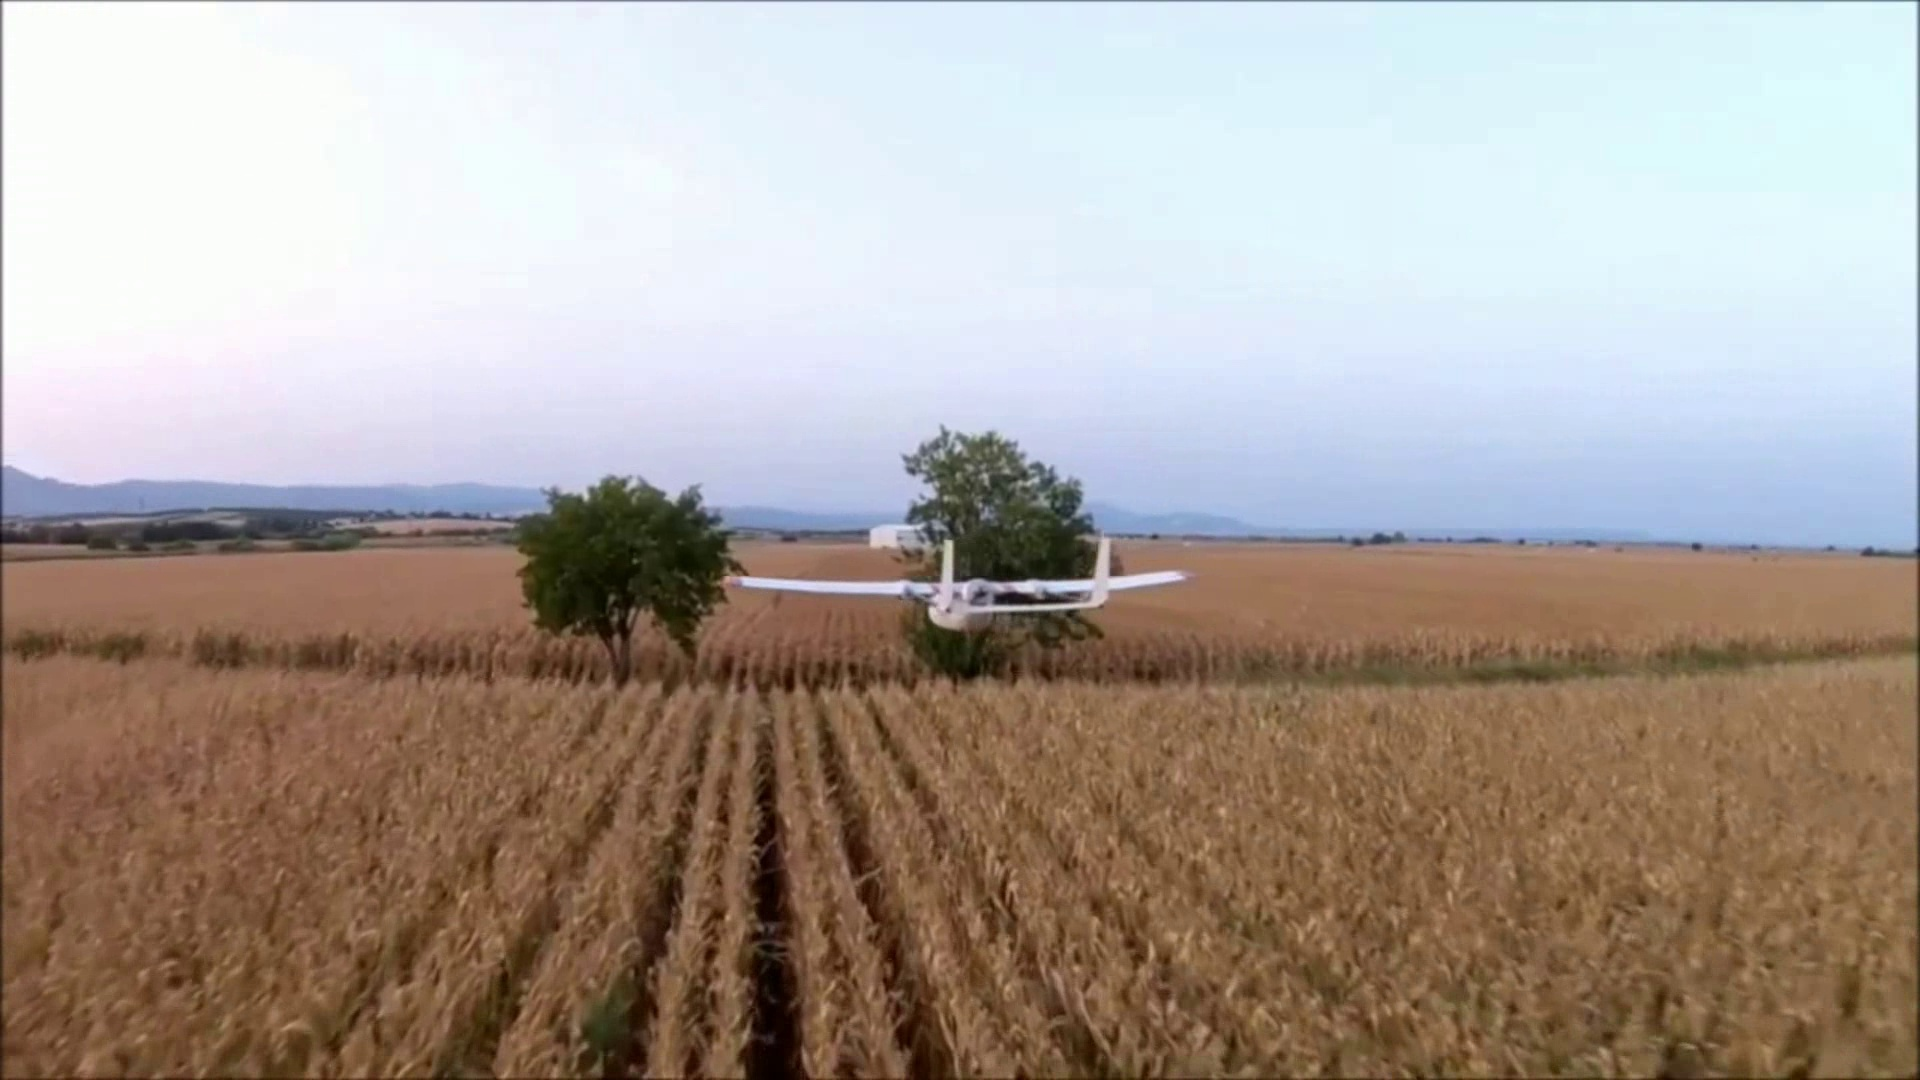airplane: (711, 533, 1195, 640)
